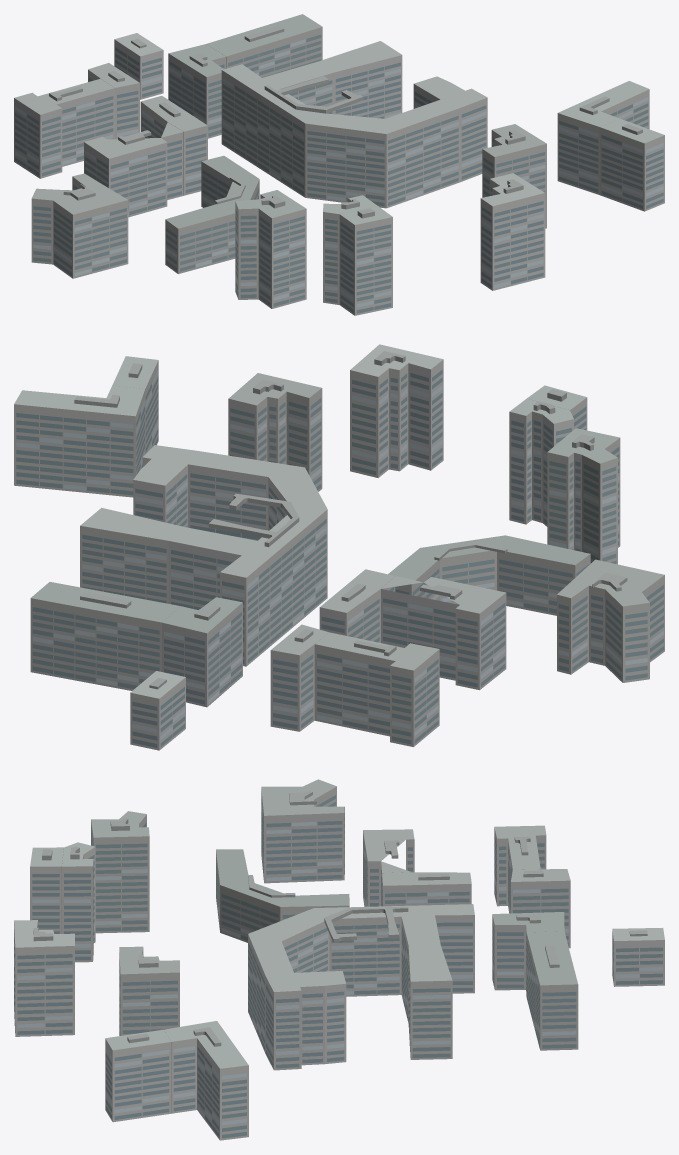
Rendered from apt-a41279931.glb.
3 views of the same model, one above another, from view 1: azimuth 30°, elevation 25°; view 2: azimuth 150°, elevation 25°; view 3: azimuth 270°, elevation 25° (orthographic). The views are drawn at different scales.
Visible parts, largest first — view 1: apt-a41279931; view 2: apt-a41279931; view 3: apt-a41279931.
Part boxes in pixels (x1,y1,x2,y2): apt-a41279931: [14, 14, 664, 315]; apt-a41279931: [14, 344, 664, 750]; apt-a41279931: [14, 779, 664, 1140].
Bounding box in the file's own units: 277 × 44 × 259.
